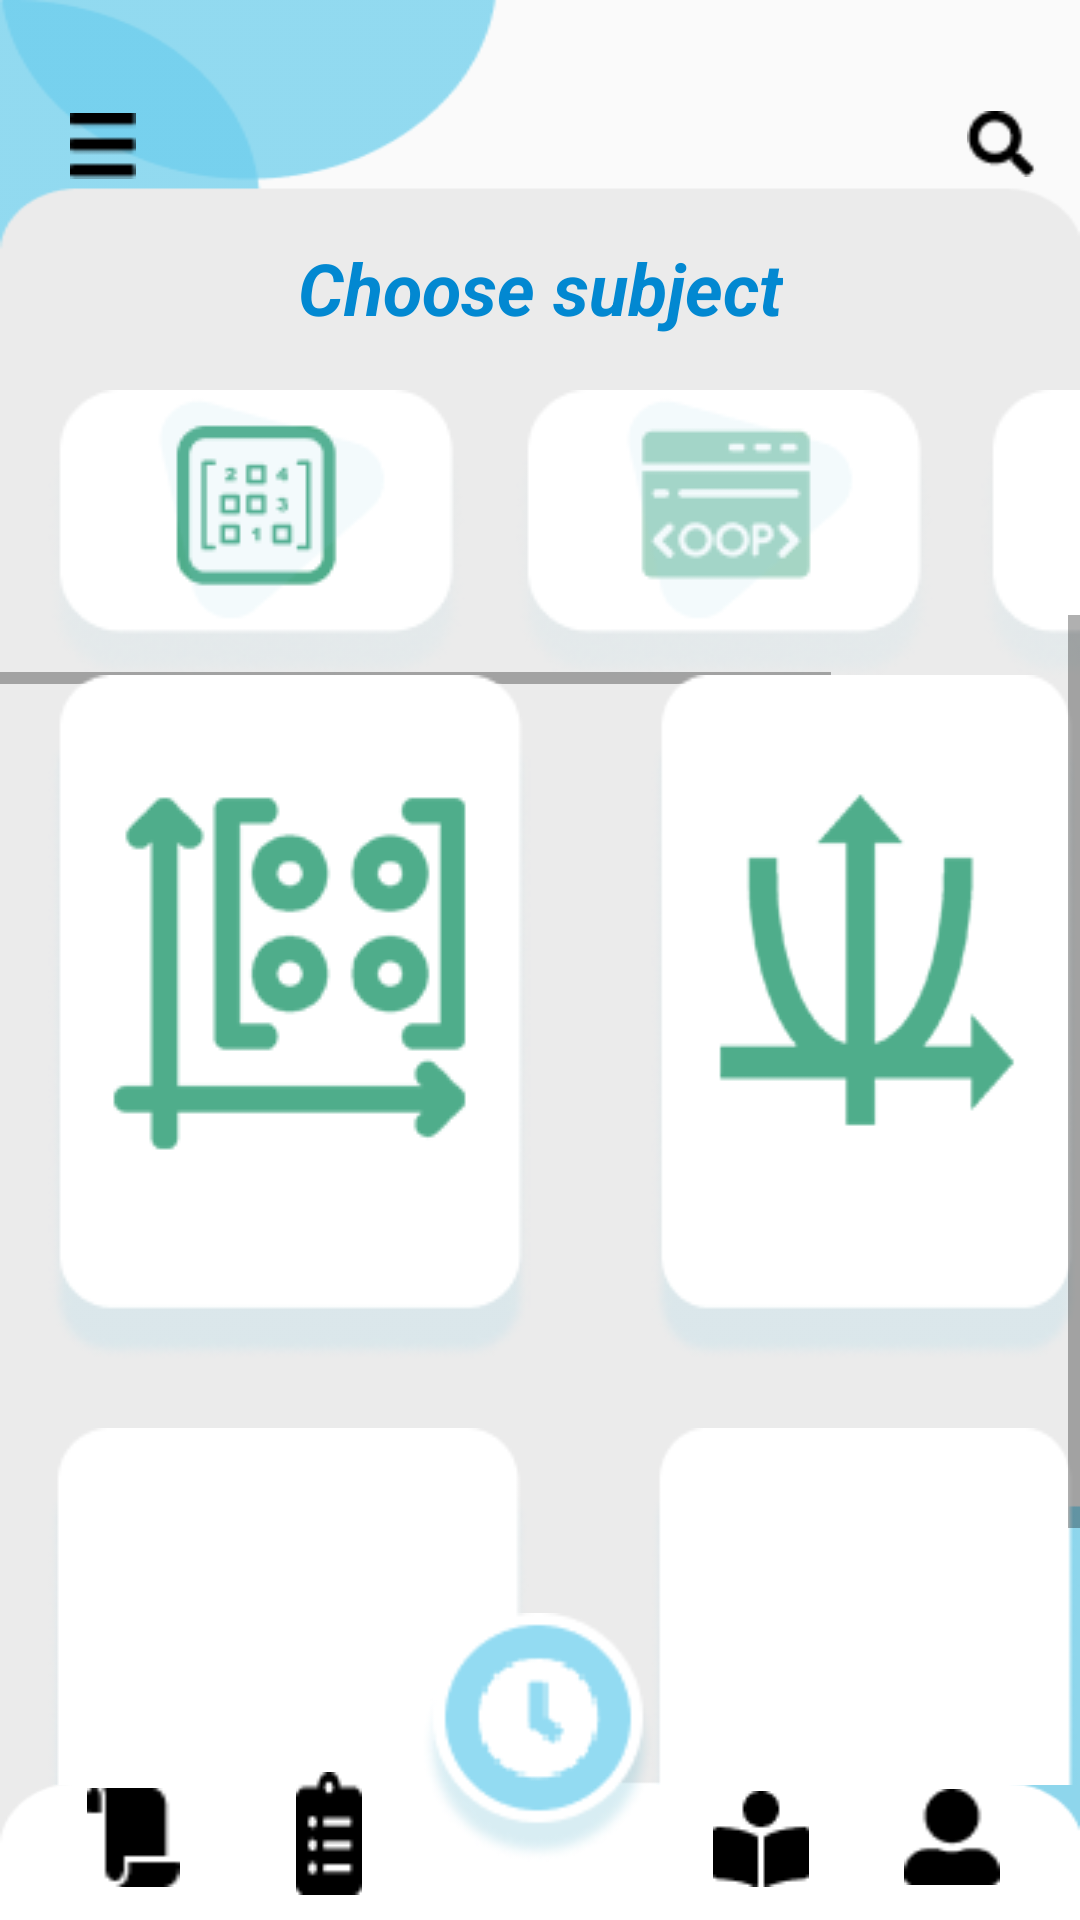

Icons on this 1080*1920 Android screen, each with the point to tap as (x=x, y=y):
account: (x=952, y=1837)
list: (x=329, y=1833)
menu: (x=103, y=146)
read: (x=761, y=1839)
search: (x=1000, y=144)
tomato timer: (x=542, y=1736)
